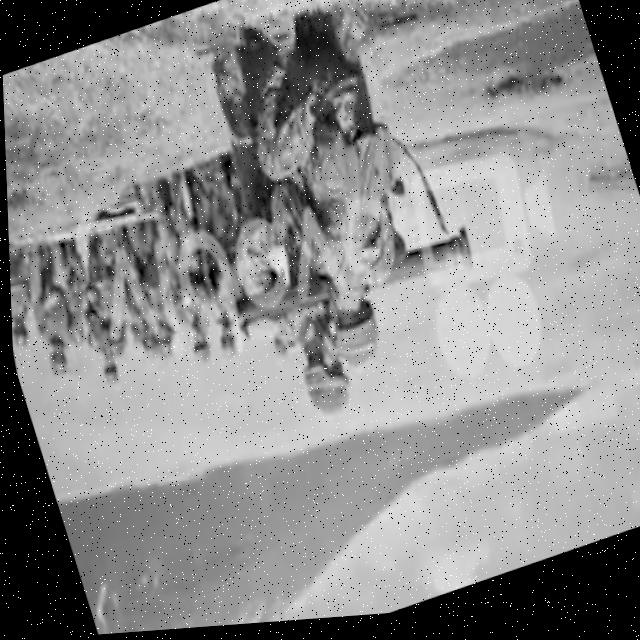rocket: (218, 205, 484, 369)
